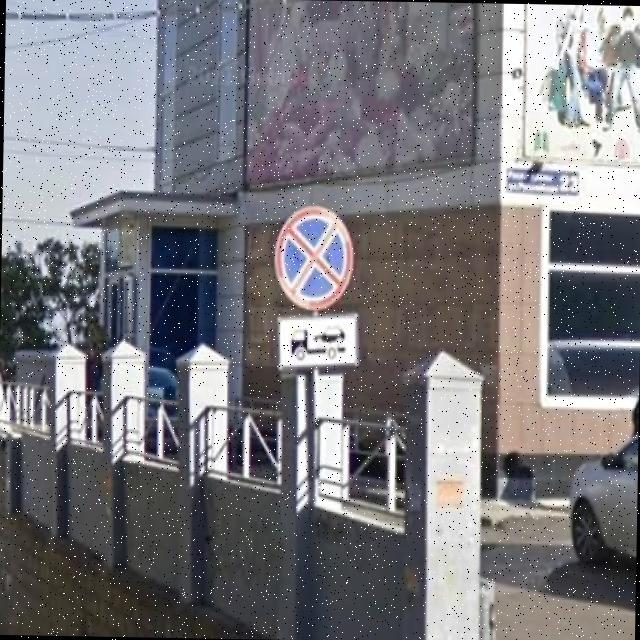Zakaz zatrzymywania sie: (270, 200, 356, 316)
